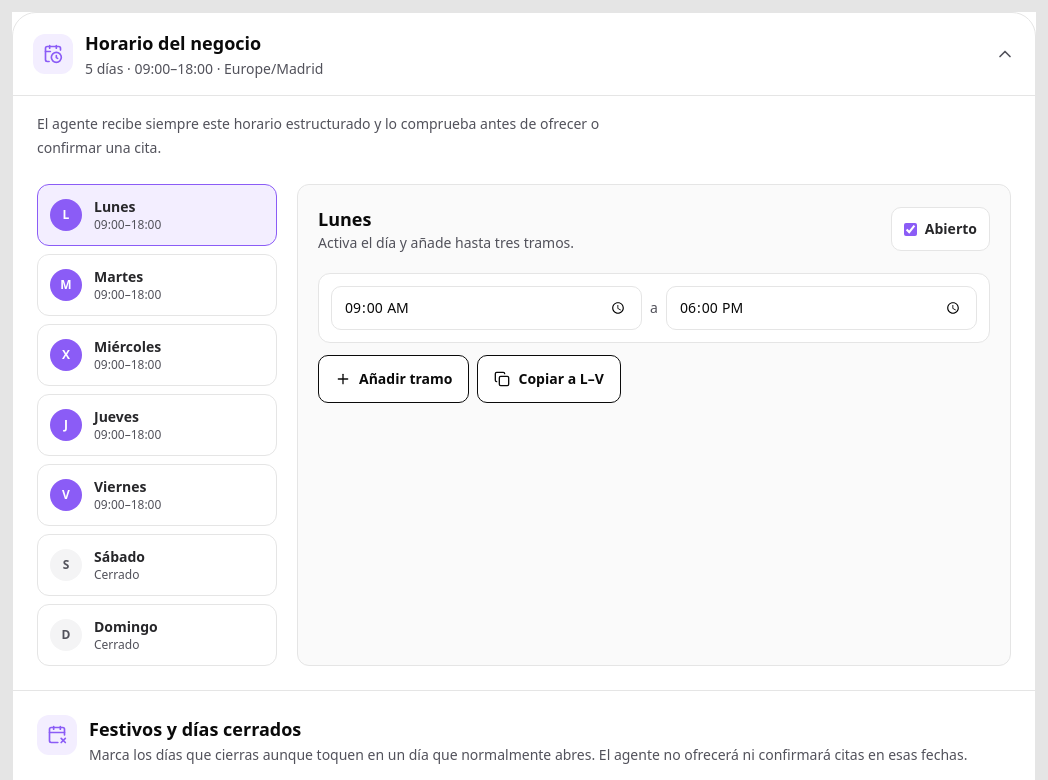
Scenario: BusinessHoursEditor › cambia de día al hacer click en otro día de la lista
Click the button "S Sábado Cerrado": (157, 565) top-left (37, 534), bottom-right (277, 596)
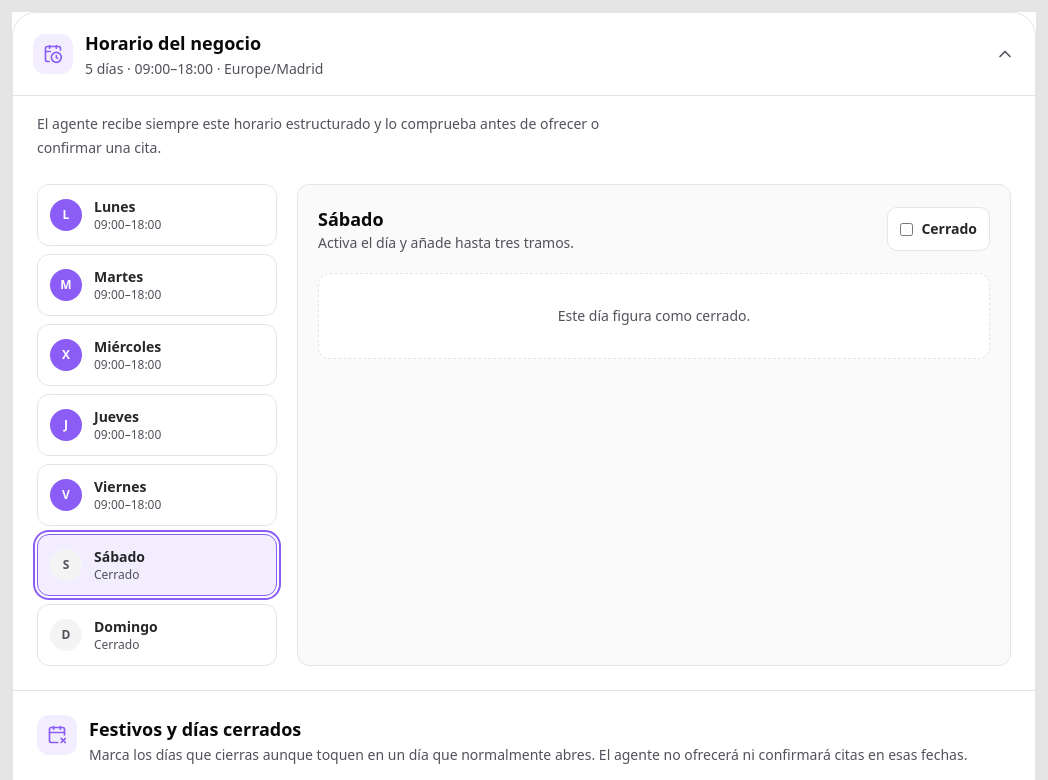
Expected: the text "Este día figura como cerrado." is shown, top-left (318, 273), bottom-right (990, 359)
